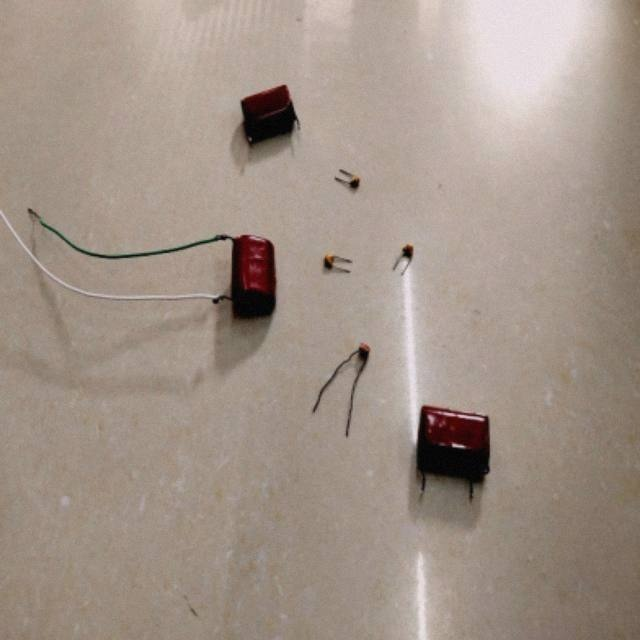capacitor: (417, 408, 490, 486), (231, 235, 276, 318), (242, 87, 295, 143), (403, 244, 413, 258), (349, 177, 360, 188), (324, 256, 333, 269)
